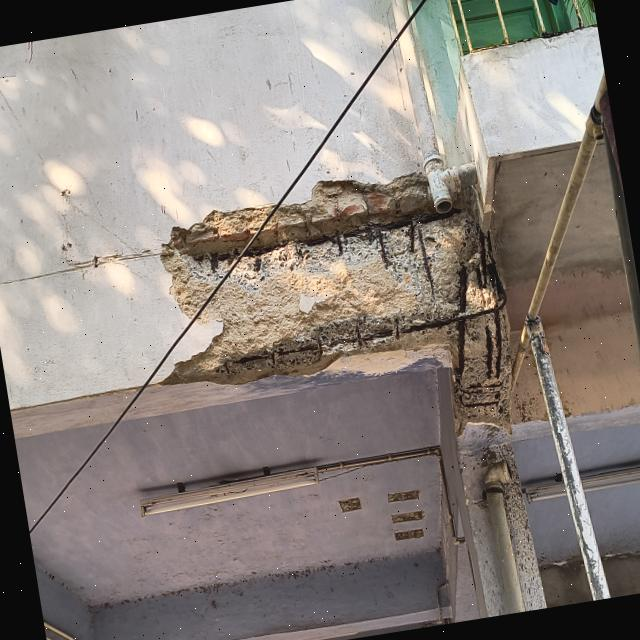spalling: (163, 173, 510, 398)
